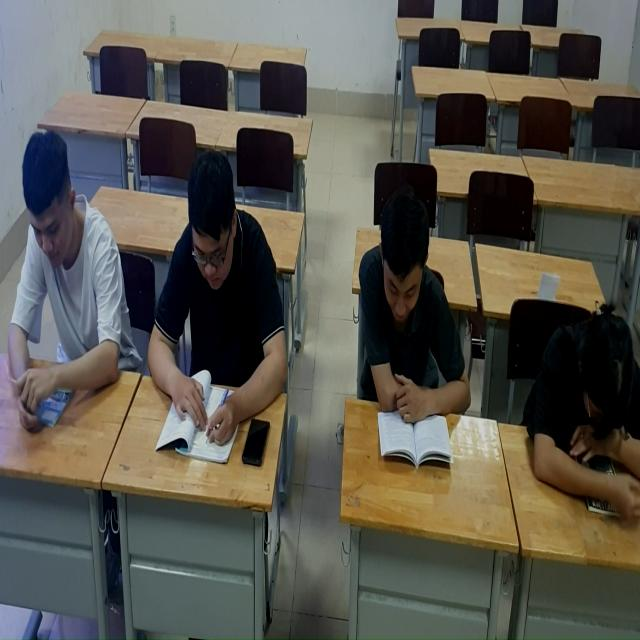read: (146, 144, 296, 482), (348, 160, 482, 475), (7, 142, 124, 437)
sleep: (511, 303, 640, 493)
